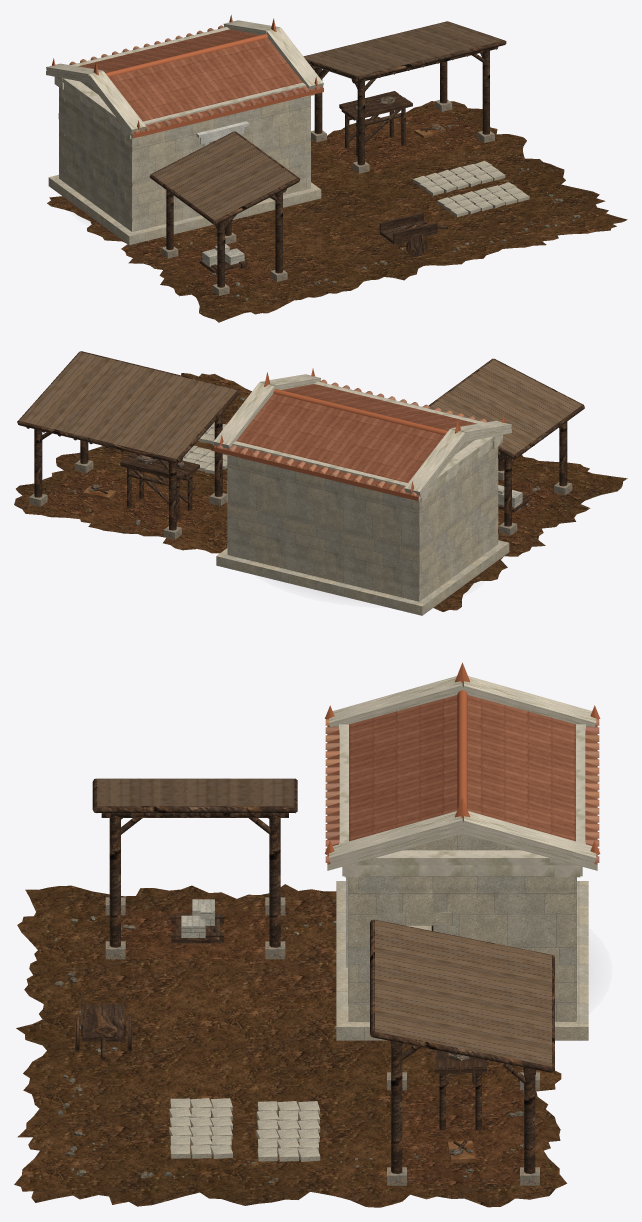
File: road_depot@2.glb
3 views of the same model, one above another, from view 1: azimuth 30°, elevation 25°; view 2: azimuth 150°, elevation 25°; view 3: azimuth 270°, elevation 25° (orthographic). The views are drawn at different scales.
Visible parts, largest first — view 1: part_1, part_4, part_17, part_9, part_5, part_7, part_16, part_18, part_8, part_19, part_2, part_6 (+1 smaller); view 2: part_4, part_9, part_17, part_1, part_5, part_16, part_7, part_18, part_8, part_19; view 3: part_1, part_4, part_17, part_9, part_16, part_5, part_7, part_19, part_8, part_18, part_2, part_15.
Boxes of the visible parts, bbox=[...] form: part_1: bbox=[47, 101, 627, 322]; part_4: bbox=[48, 81, 529, 245]; part_17: bbox=[77, 29, 323, 134]; part_9: bbox=[152, 21, 503, 220]; part_5: bbox=[149, 21, 506, 287]; part_7: bbox=[170, 109, 483, 291]; part_16: bbox=[46, 20, 323, 139]; part_18: bbox=[52, 15, 323, 138]; part_8: bbox=[161, 99, 494, 295]; part_19: bbox=[69, 25, 321, 133]; part_2: bbox=[163, 122, 580, 303]; part_6: bbox=[196, 121, 249, 146]; part_4: bbox=[182, 422, 509, 615]; part_9: bbox=[19, 352, 581, 458]; part_17: bbox=[214, 384, 511, 496]; part_1: bbox=[14, 373, 627, 611]; part_5: bbox=[17, 351, 584, 530]; part_16: bbox=[213, 374, 511, 502]; part_7: bbox=[42, 470, 562, 535]; part_18: bbox=[213, 368, 505, 501]; part_8: bbox=[29, 460, 572, 539]; part_19: bbox=[216, 379, 486, 496]; part_1: bbox=[14, 884, 566, 1207]; part_4: bbox=[169, 834, 588, 1161]; part_17: bbox=[327, 695, 597, 864]; part_9: bbox=[97, 779, 551, 1066]; part_16: bbox=[327, 676, 597, 877]; part_5: bbox=[75, 778, 554, 1173]; part_7: bbox=[121, 910, 523, 1183]; part_19: bbox=[325, 719, 599, 862]; part_8: bbox=[105, 897, 539, 1185]; part_18: bbox=[325, 662, 600, 854]; part_2: bbox=[45, 916, 523, 1184]; part_15: bbox=[181, 899, 214, 937].
Bounding box in the file's own units: 9.22 × 3.18 × 7.32.
20 materials, 16 textured.
